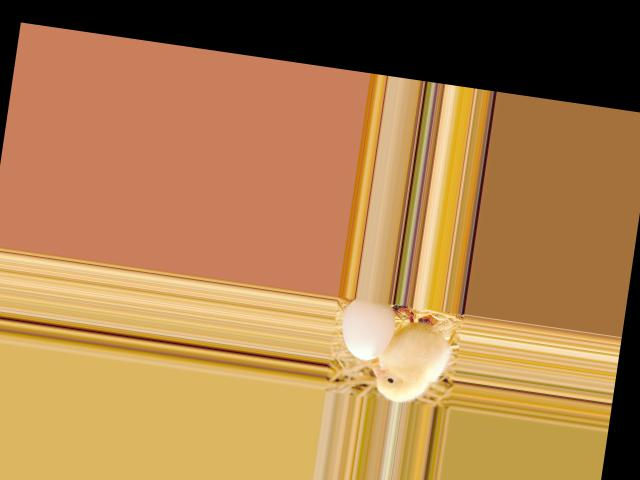egg: (338, 296, 398, 363)
